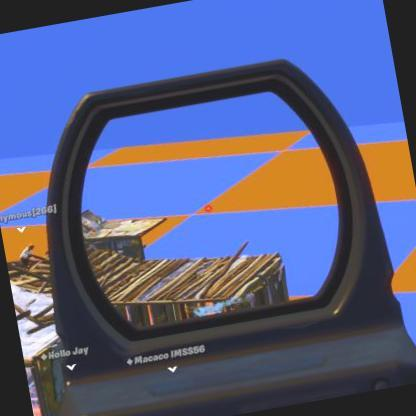person: (18, 244, 34, 272)
